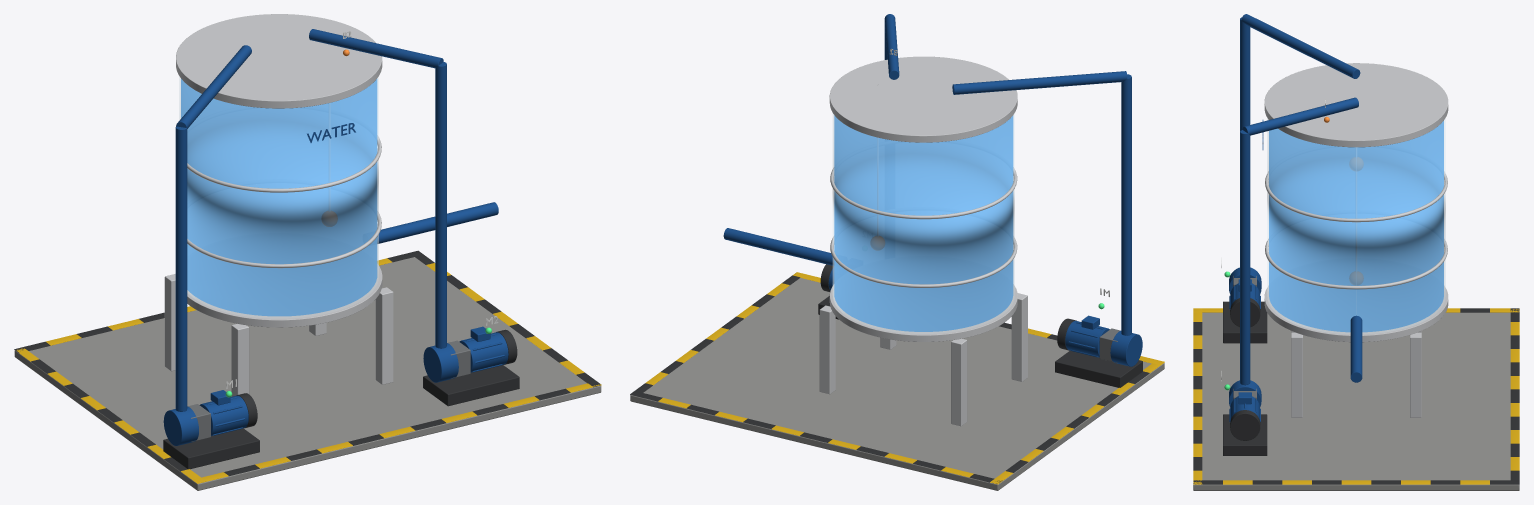
Rendered from machine_tank2.glb.
3 renders of one model, left to right at view 1: azimuth 30°, elevation 25°; view 2: azimuth 150°, elevation 25°; view 3: azimuth 270°, elevation 25°, orthographic. The views are drawn at different scales.
Visible parts, largest first — view 1: frame, water_mesh; view 2: frame, water_mesh; view 3: frame, water_mesh.
Part boxes in pixels (box(x1,y1,x2,y2)): frame: box(14, 14, 601, 490); water_mesh: box(181, 79, 377, 316); frame: box(630, 14, 1164, 490); water_mesh: box(834, 115, 1013, 331); frame: box(1193, 14, 1519, 490); water_mesh: box(1269, 121, 1443, 332).
Size of the model in its own units: 2.8 by 2.32 by 2.2.
